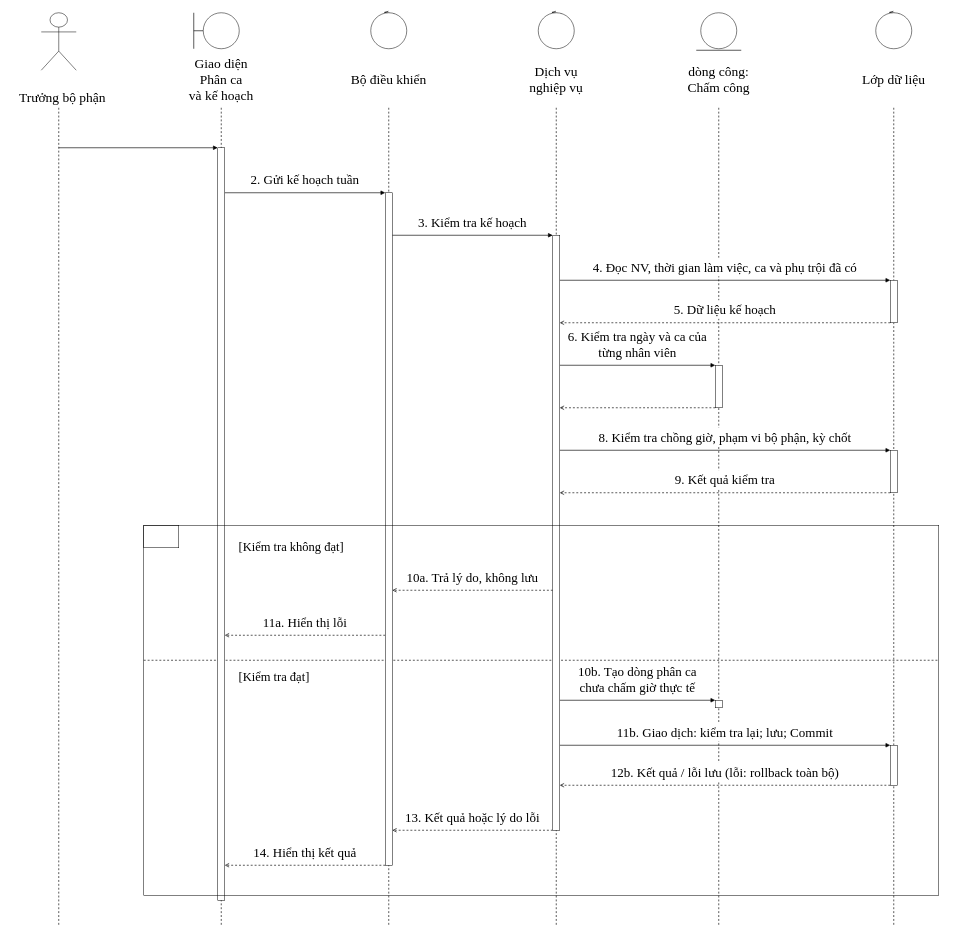
The diagram is 970 pixels wide and 935 high, and some of its shapes have lost their labels. Each missing label, with the centre of its shape:
"1. Chọn tuần, NV, ca và phụ trội nếu cần" goes at point 138,127.
"7. Các dòng phân ca" goes at point 637,394.
"alt" goes at point 161,536.
